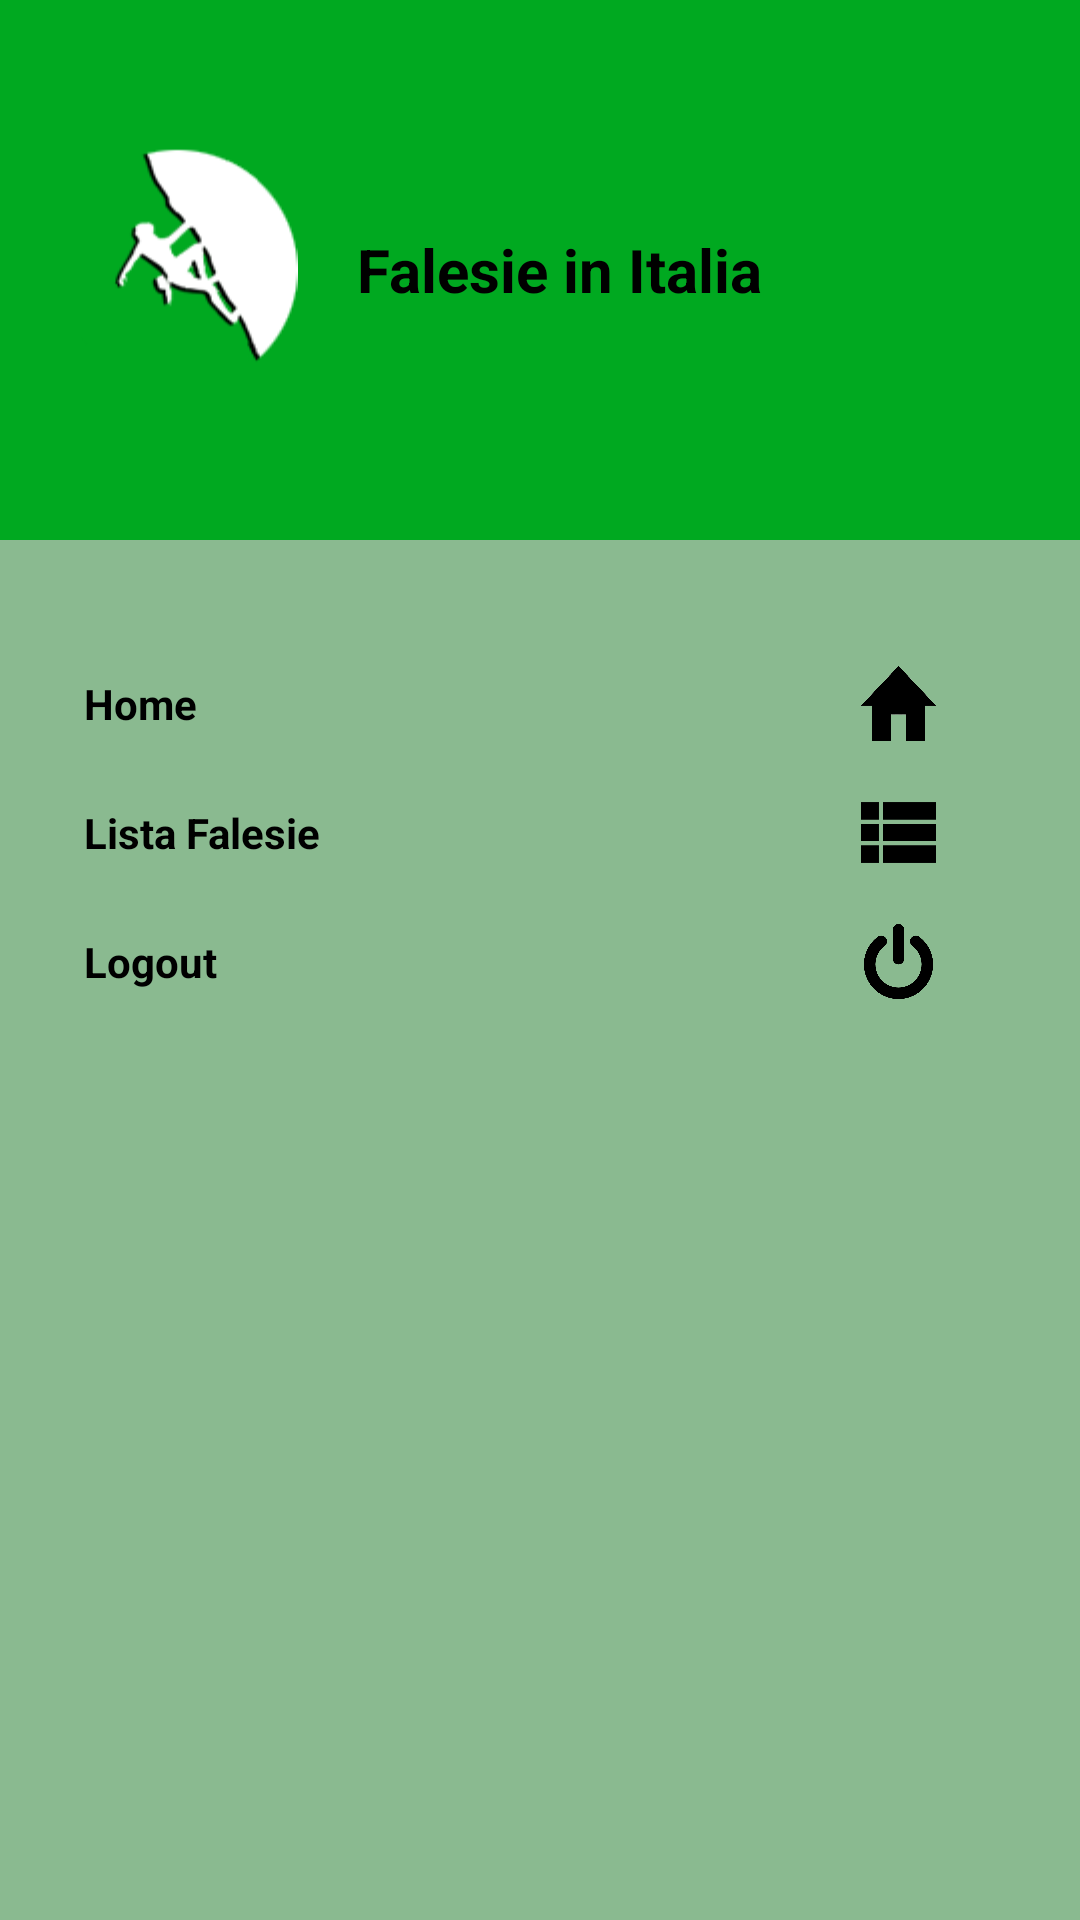

Screen size 1080 × 1920. Icon name, then its center in pixels as point (x, y):
listview: point (898, 832)
